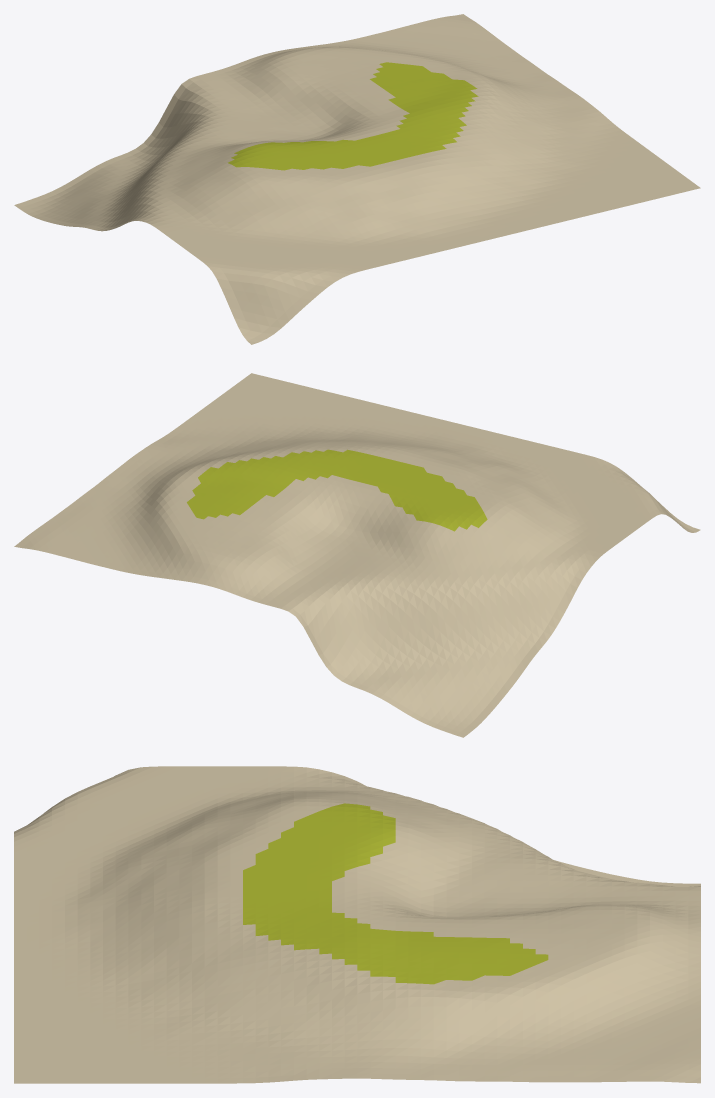
Rendered from island_terrain.fbx.
3 renders of one model, top to bottom at view 1: azimuth 30°, elevation 25°; view 2: azimuth 150°, elevation 25°; view 3: azimuth 270°, elevation 25°, orthographic. The views are drawn at different scales.
Visible parts, largest first — view 1: Island.000; view 2: Island.000; view 3: Island.000.
Boxes of the visible parts, x1,y1,x2,y2 form: Island.000: [14, 14, 700, 344]; Island.000: [14, 373, 700, 737]; Island.000: [14, 766, 700, 1083].
Bounding box in the file's own units: 46.09 × 10.59 × 42.19.
